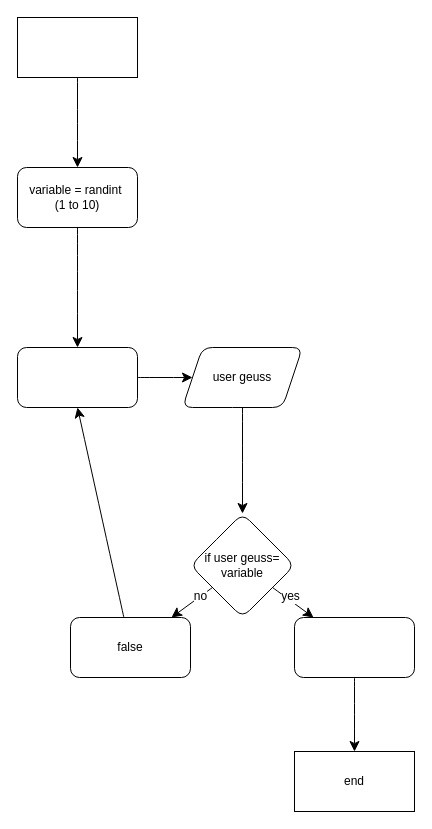
Image size: 432x829. Some labels were removed from this diagram. The shapes that lost their labels are listed below. From the top down, each one's centre as x and y in pixels, then its label:
(x=77, y=47): start
(x=77, y=377): guess prompt
(x=354, y=647): true
